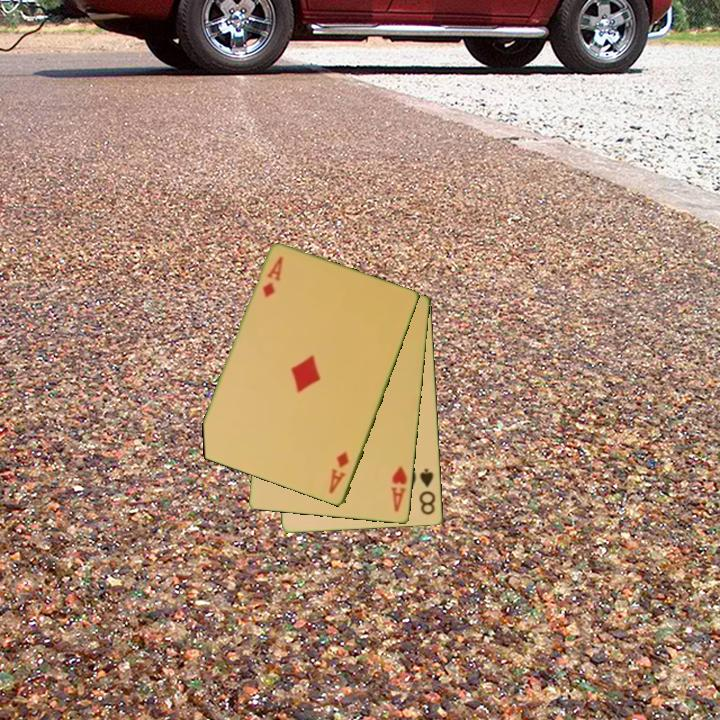8s: (416, 465, 439, 518)
Ad: (259, 253, 286, 301), (326, 448, 352, 497)
Ah: (387, 463, 410, 515)
